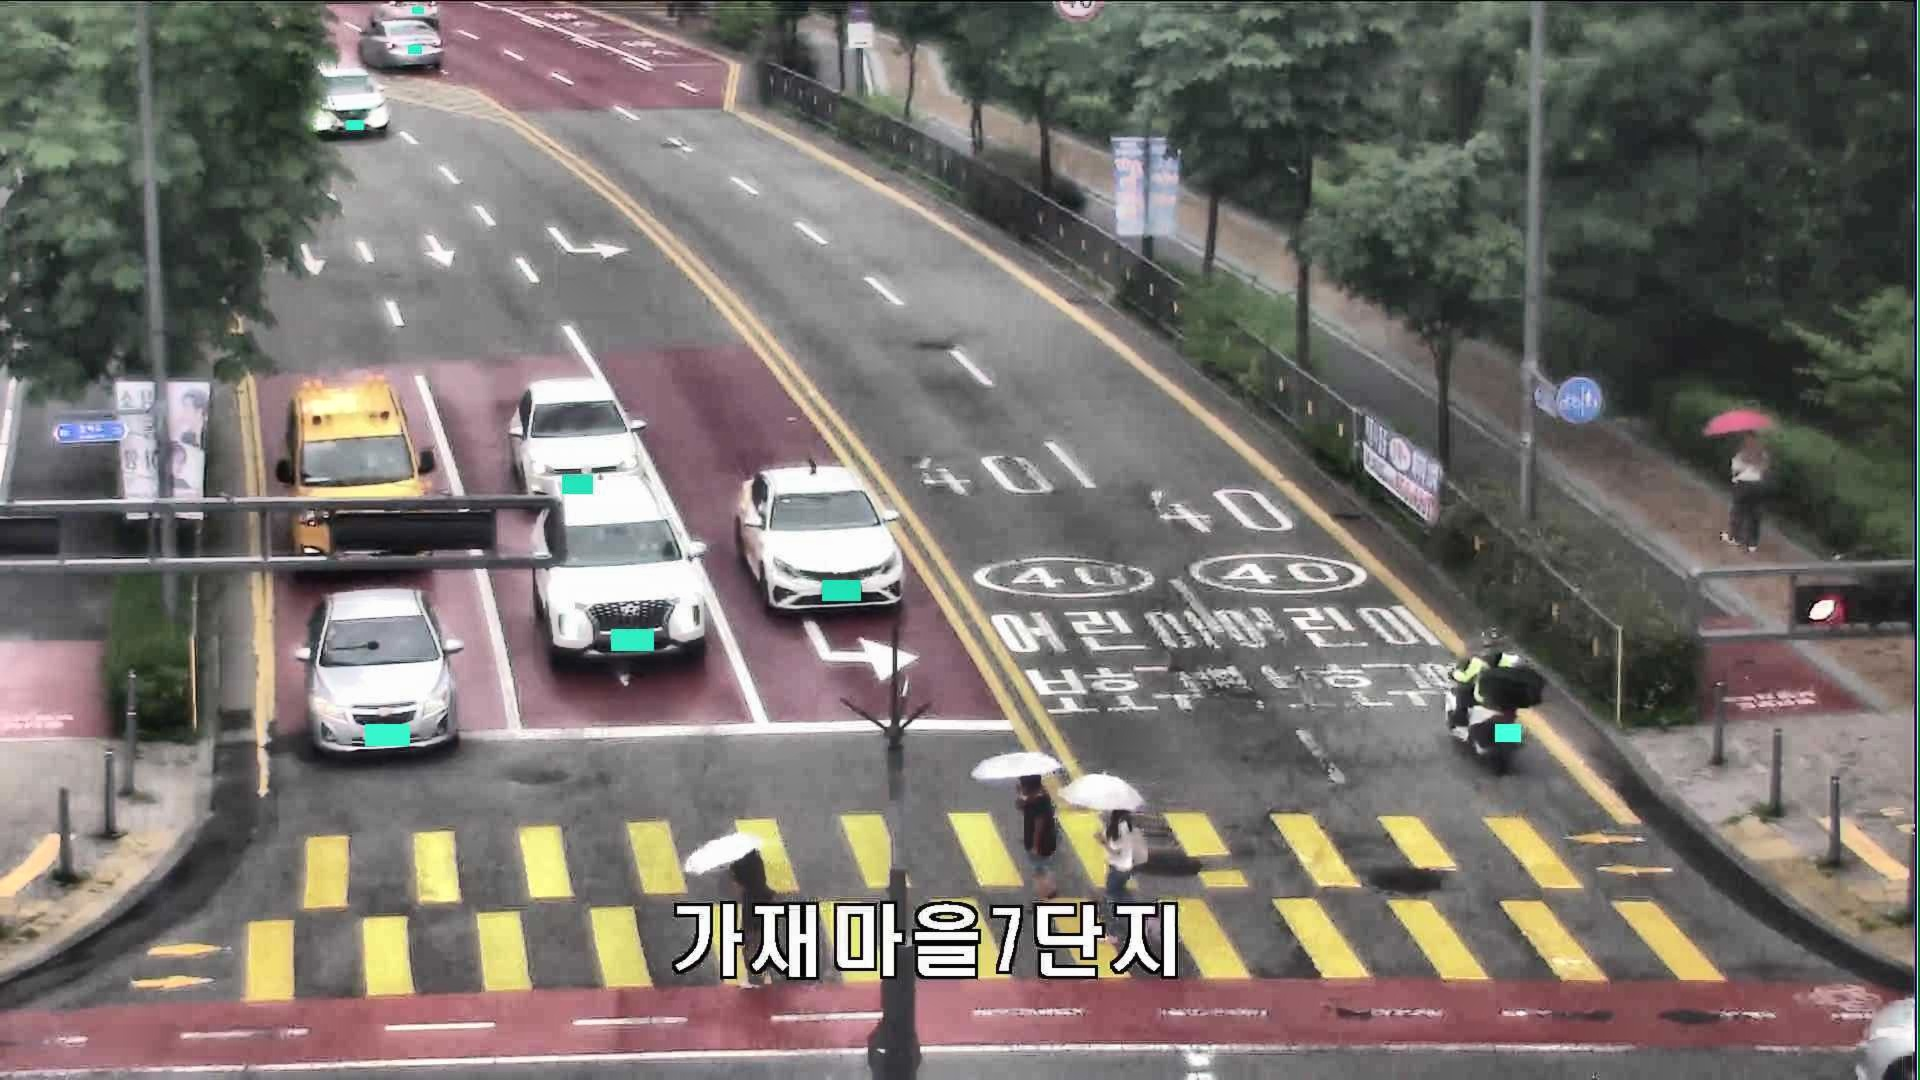um_crosswalk: (680, 832, 806, 986), (1058, 774, 1147, 943), (971, 753, 1065, 905)
um_sidewalk: (1702, 411, 1774, 553)
